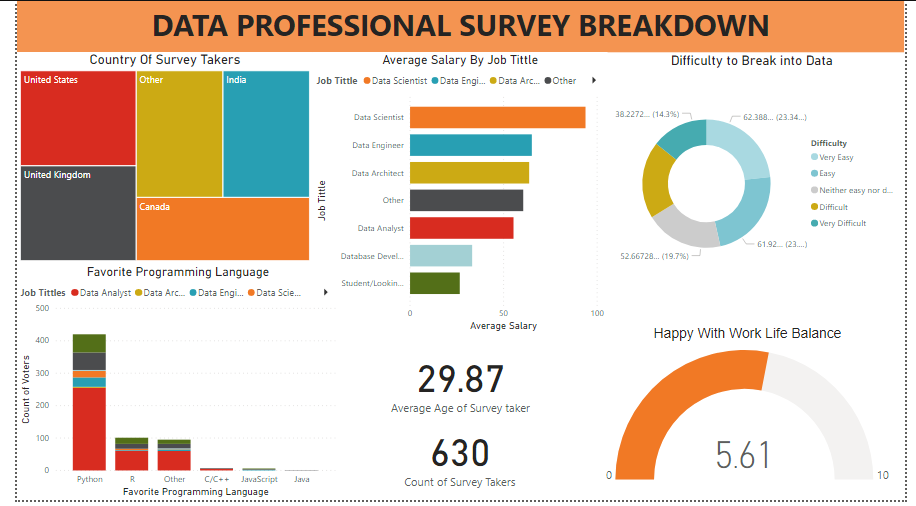

Layout of this report page (visuals, bound fields, positions):
{"tool":"powerbi","page":{"name":"Page 1","canvas":[1280,720],"ordinal":0},"visuals":[{"type":"textbox","box":[0,0,1280,73.9],"z":0},{"type":"card","fields":{"Values":["Count(Data Professional Survey.Unique ID)"]},"box":[532.5,601.4,213.3,105.8],"z":1000},{"type":"card","fields":{"Values":["Avg(Data Professional Survey.Q10 - Current Age)"]},"box":[534.2,495.5,211.7,105.8],"z":2000},{"type":"barChart","title":"Average Salary By Job Tittle","fields":{"Category":["Data Professional Survey.Q1 - Which Title Best Fits your Current Role?.1"],"Y":["Avg(Data Professional Survey.Average Salary)"],"Series":["Data Professional Survey.Q1 - Which Title Best Fits your Current Role?.1"]},"box":[426.7,73.9,425,408.2],"z":3000},{"type":"columnChart","title":"Favorite Programming Language","fields":{"Category":["Data Professional Survey.Q5 - Favorite Programming Language.1"],"Y":["CountNonNull(Data Professional Survey.Unique ID)"],"Series":["Data Professional Survey.Q1 - Which Title Best Fits your Current Role?.1"]},"box":[0,379.5,464.6,340.5],"z":4000},{"type":"treemap","title":"Country Of Survey Takers","fields":{"Group":["Data Professional Survey.Q11 - Which Country do you live in?.1"],"Values":["Count(Data Professional Survey.Q11 - Which Country do you live in?.1)"]},"box":[0,73.9,426.7,305.7],"z":5000},{"type":"gauge","title":"Happy With Work Life Balance","fields":{"Y":["Avg(Data Professional Survey.Q6 - How Happy are you in your Current Position with the following? (Learning New Things))"],"MinValue":["Min(Data Professional Survey.Q6 - How Happy are you in your Current Position with the following? (Learning New Things))1"],"MaxValue":["Max(Data Professional Survey.Q6 - How Happy are you in your Current Position with the following? (Learning New Things))2"]},"box":[839.9,468.7,428.3,238.5],"z":6000},{"type":"donutChart","title":"Difficulty to Break into Data","fields":{"Y":["Avg(Data Professional Survey.Average Salary)"],"Category":["Data Professional Survey.Q7 - How difficult was it for you to break into Data?"]},"box":[839.6,74.3,440.4,355.1],"z":7000}]}

Visuals, with their boxes in screenshot pixels (x1, y1, x2, y2), scaled from the page's 1280x720 canvas onto the 916x506 screenshot:
textbox: detection(0, 0, 915, 52)
card - Count(Data Professional Survey.Unique ID): detection(381, 423, 534, 497)
card - Avg(Data Professional Survey.Q10 - Current Age): detection(382, 348, 534, 423)
"Average Salary By Job Tittle" barChart: detection(305, 52, 609, 339)
"Favorite Programming Language" columnChart: detection(0, 267, 332, 505)
"Country Of Survey Takers" treemap: detection(0, 52, 305, 267)
"Happy With Work Life Balance" gauge: detection(601, 329, 908, 497)
"Difficulty to Break into Data" donutChart: detection(601, 52, 915, 302)
